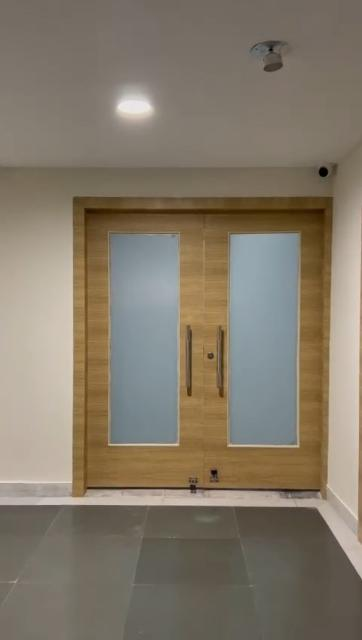door: (82, 196, 322, 492)
floor: (0, 496, 362, 640)
wall: (0, 162, 76, 490)
